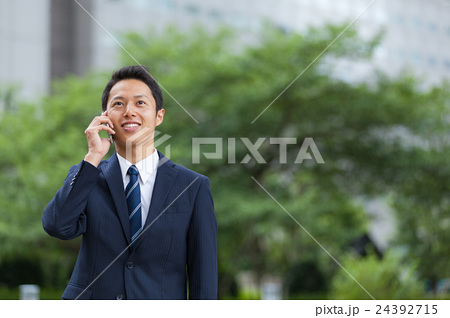phone: (85, 107, 117, 150)
talk: (83, 94, 153, 162)
